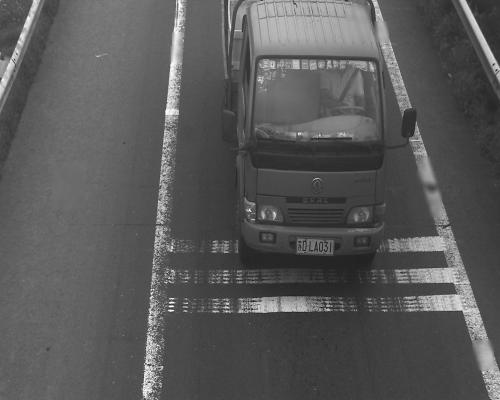Carplate: (294, 232, 338, 260)
